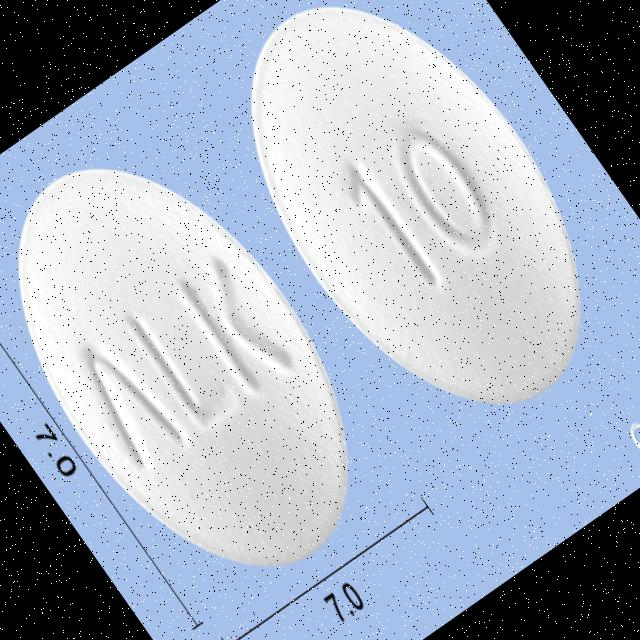Lenomid: (0, 107, 413, 622), (184, 0, 640, 458)
